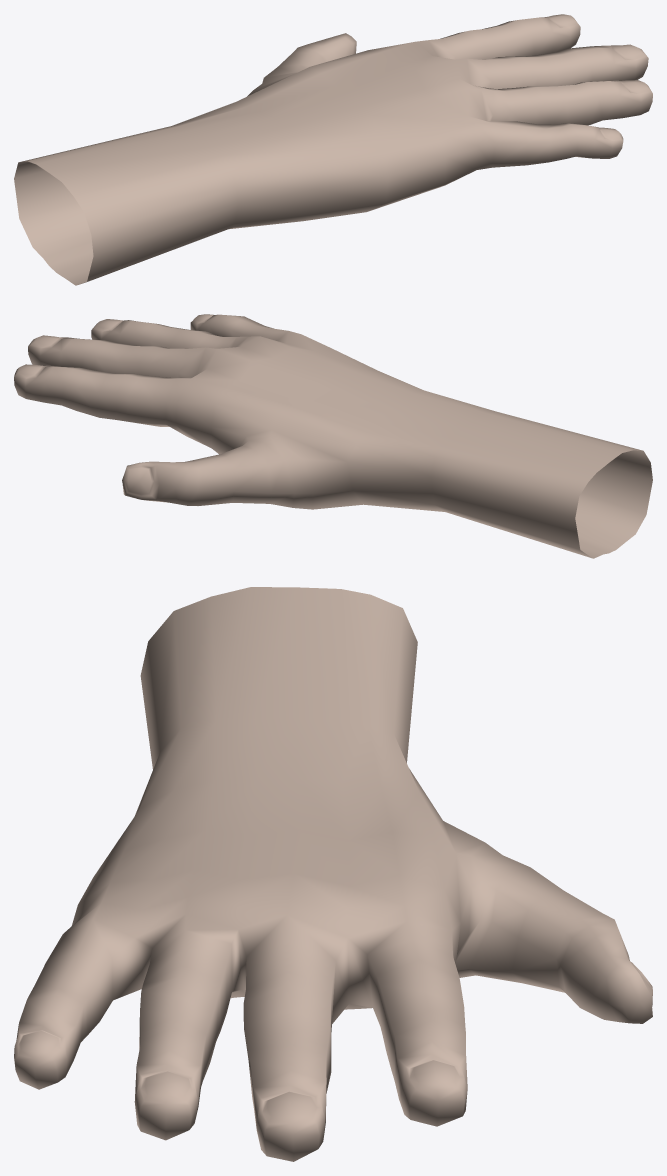
The model's file is RightHand.dae.
3 views of the same model, one above another, from view 1: azimuth 30°, elevation 25°; view 2: azimuth 150°, elevation 25°; view 3: azimuth 270°, elevation 25° (orthographic). The views are drawn at different scales.
Visible parts, largest first — view 1: Cube_000; view 2: Cube_000; view 3: Cube_000.
Part boxes in pixels (x1,y1,x2,y2): Cube_000: (14, 14, 652, 285); Cube_000: (14, 314, 652, 558); Cube_000: (14, 587, 652, 1161).
Bounding box in the file's own units: 0.256 × 0.1369 × 0.0457.
